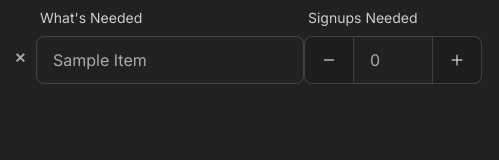
Scenario: ItemInput › increments the count when the "+" button is clicked
The width and height of the screenshot is (499, 160).
Click the button named "increment-count-0-button" at (457, 60), box [432,36,482,84]
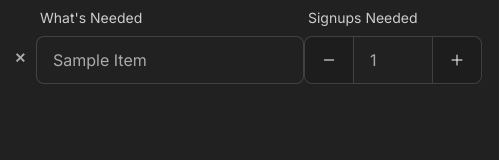
expect the number field holds "1": met, box [353,36,433,84]
